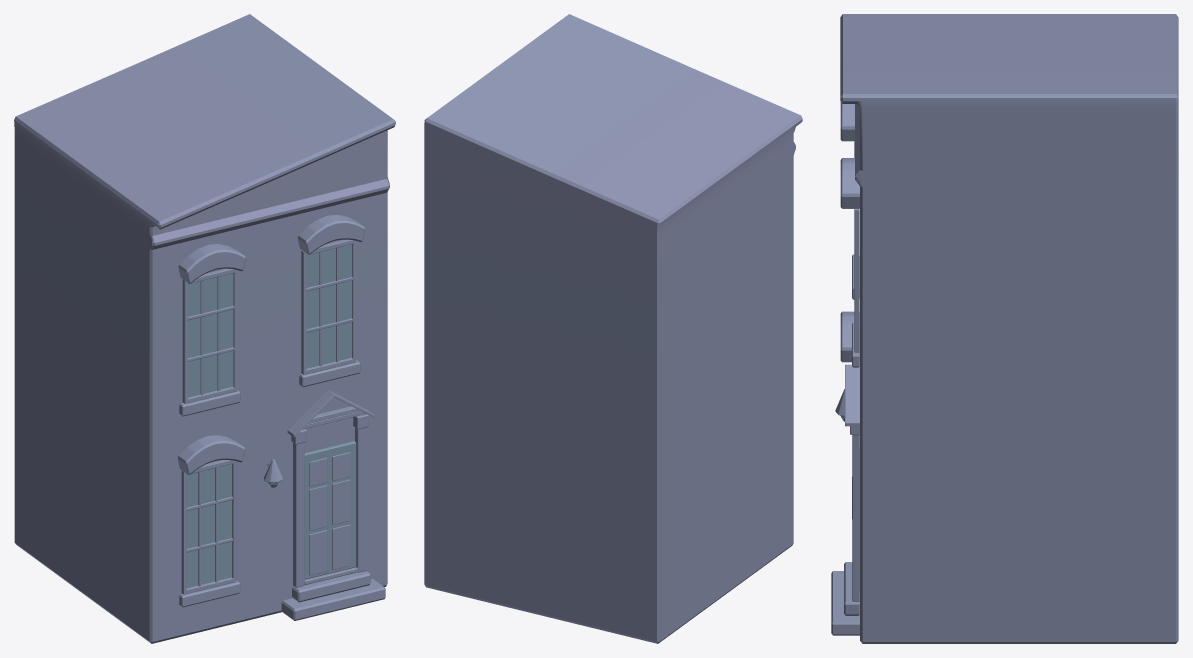
File: TimHouse3-UV.fbx
3 views of the same model, side by side, from view 1: azimuth 30°, elevation 25°; view 2: azimuth 150°, elevation 25°; view 3: azimuth 270°, elevation 25° (orthographic). The views are drawn at different scales.
Visible parts, largest first — view 1: polySurface242; view 2: polySurface242; view 3: polySurface242.
Part boxes in pixels (box(x1,y1,x2,y2)): polySurface242: box(14, 14, 395, 643); polySurface242: box(424, 14, 802, 643); polySurface242: box(831, 14, 1178, 643).
Bounding box in the file's own units: 5.07 × 9.62 × 5.51.
